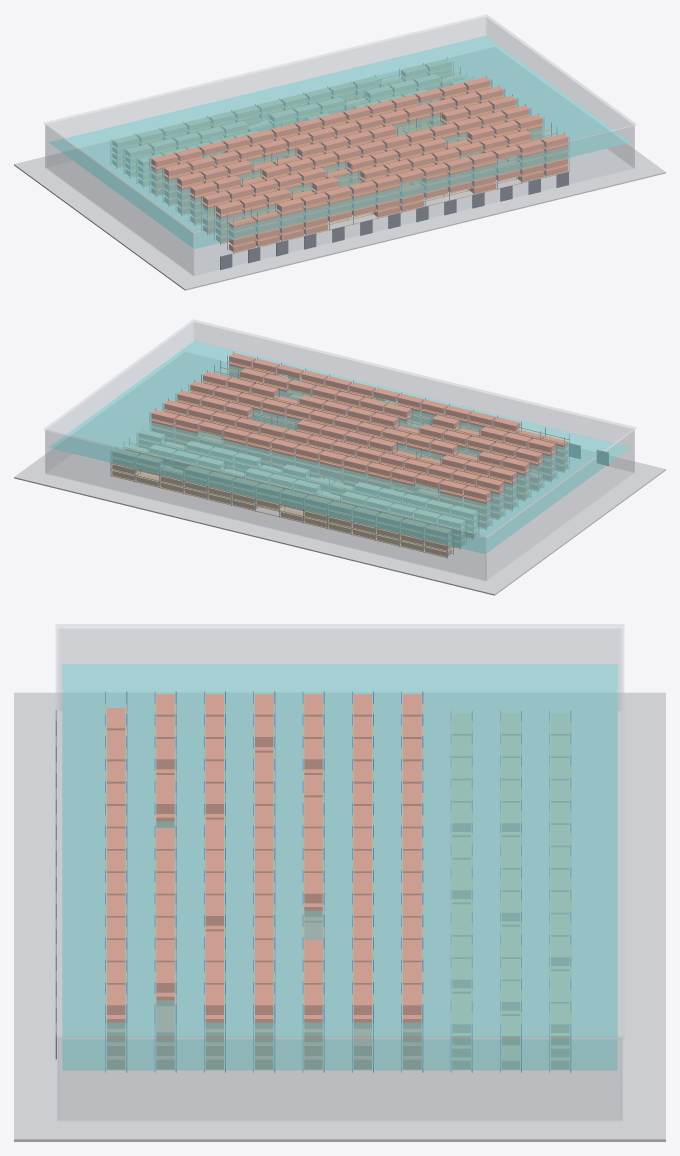
Rendered from warehouse.glb.
The picture shows the model from 3 angles, top to bottom: view 1: azimuth 30°, elevation 25°; view 2: azimuth 150°, elevation 25°; view 3: azimuth 270°, elevation 25°; orthographic projection. The views are drawn at different scales.
Parts seen in each view (by area): view 1: ROOF-B-1, B-1_SHELL, SPRINKLER_DESIGN_PLANE, SLAB, RACK-10_loads, RACK-05_loads, RACK-07_loads, RACK-08_loads, RACK-04_loads, RACK-01_loads, RACK-09_loads, RACK-02_loads (+12 smaller); view 2: ROOF-B-1, B-1_SHELL, SPRINKLER_DESIGN_PLANE, SLAB, RACK-01_loads, RACK-04_loads, RACK-07_loads, RACK-05_loads, RACK-10_loads, RACK-08_loads, RACK-09_loads, RACK-03_loads (+12 smaller); view 3: ROOF-B-1, SLAB, SPRINKLER_DESIGN_PLANE, B-1_SHELL, RACK-04_loads, RACK-06_loads, RACK-09_loads, RACK-05_loads, RACK-07_loads, RACK-08_loads, RACK-10_loads, RACK-01_loads (+9 smaller).
Boxes of the visible parts, <box> form: ROOF-B-1: <box>44,14,635,232</box>; B-1_SHELL: <box>45,17,634,275</box>; SPRINKLER_DESIGN_PLANE: <box>49,36,630,248</box>; SLAB: <box>14,47,665,290</box>; RACK-10_loads: <box>229,134,568,252</box>; RACK-05_loads: <box>164,86,503,204</box>; RACK-07_loads: <box>190,105,529,223</box>; RACK-08_loads: <box>203,115,542,233</box>; RACK-04_loads: <box>151,77,490,195</box>; RACK-01_loads: <box>112,58,451,166</box>; RACK-09_loads: <box>216,130,531,242</box>; RACK-02_loads: <box>125,74,464,176</box>; ROOF-B-1: <box>44,319,635,537</box>; B-1_SHELL: <box>45,322,634,580</box>; SPRINKLER_DESIGN_PLANE: <box>49,341,630,553</box>; SLAB: <box>14,352,665,595</box>; RACK-01_loads: <box>112,448,451,556</box>; RACK-04_loads: <box>151,409,490,528</box>; RACK-07_loads: <box>190,381,529,499</box>; RACK-05_loads: <box>164,400,503,518</box>; RACK-10_loads: <box>229,353,568,471</box>; RACK-08_loads: <box>203,372,542,490</box>; RACK-09_loads: <box>240,368,555,480</box>; RACK-03_loads: <box>138,429,477,537</box>; ROOF-B-1: <box>55,624,624,1038</box>; SLAB: <box>14,692,665,1141</box>; SPRINKLER_DESIGN_PLANE: <box>62,664,617,1069</box>; B-1_SHELL: <box>57,628,622,1120</box>; RACK-04_loads: <box>403,694,421,1069</box>; RACK-06_loads: <box>304,694,322,1069</box>; RACK-09_loads: <box>156,694,174,1069</box>; RACK-05_loads: <box>353,694,371,1069</box>; RACK-07_loads: <box>255,694,273,1069</box>; RACK-08_loads: <box>205,694,223,1069</box>; RACK-10_loads: <box>107,708,125,1069</box>; RACK-01_loads: <box>551,713,569,1069</box>.
Bounding box in the file's own units: 120 × 11.06 × 74.
